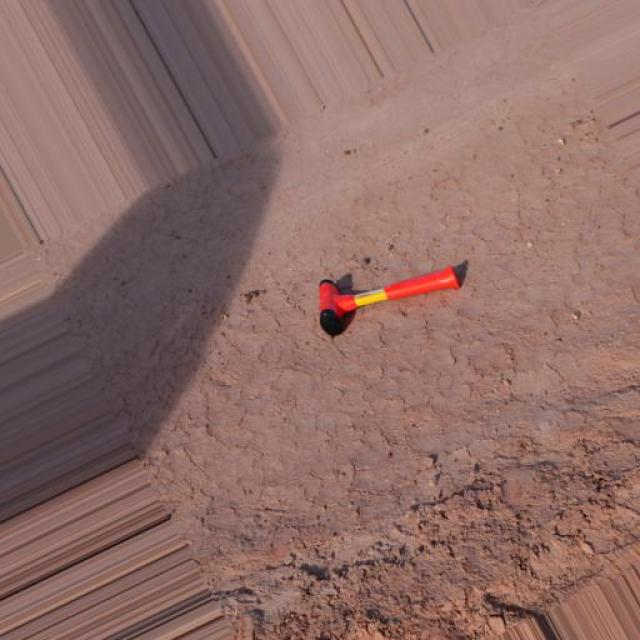mallet: (316, 258, 469, 336)
